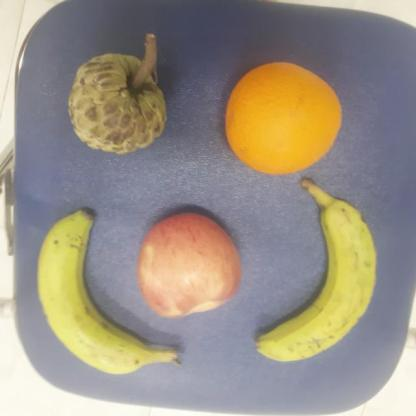annona: (69, 54, 168, 154)
apple: (137, 212, 241, 318)
banana: (37, 209, 183, 375), (255, 176, 377, 364)
orange: (224, 62, 344, 176)
